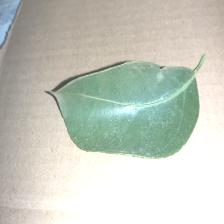healthy: (62, 69, 186, 150)
